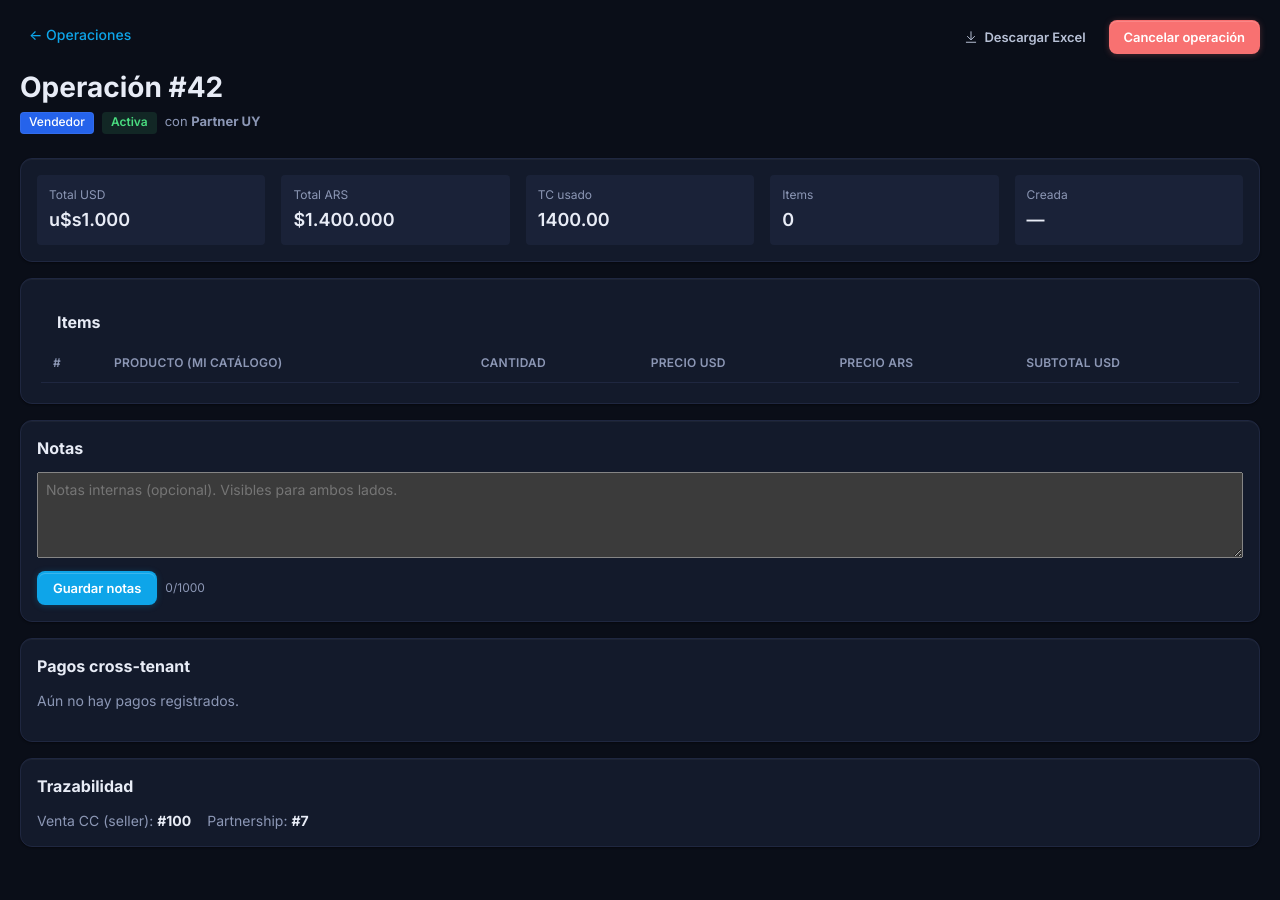
Test: RedB2BOperacionDetalle — smoke tests › U0-2: click en "Cancelar operación" abre modal, NO dispara window.prompt
Check: the text "Partner UY" is shown, box 191,112 -> 260,128
Click the button "Cancelar operación" at (1184, 37), box 1108,20 -> 1260,54
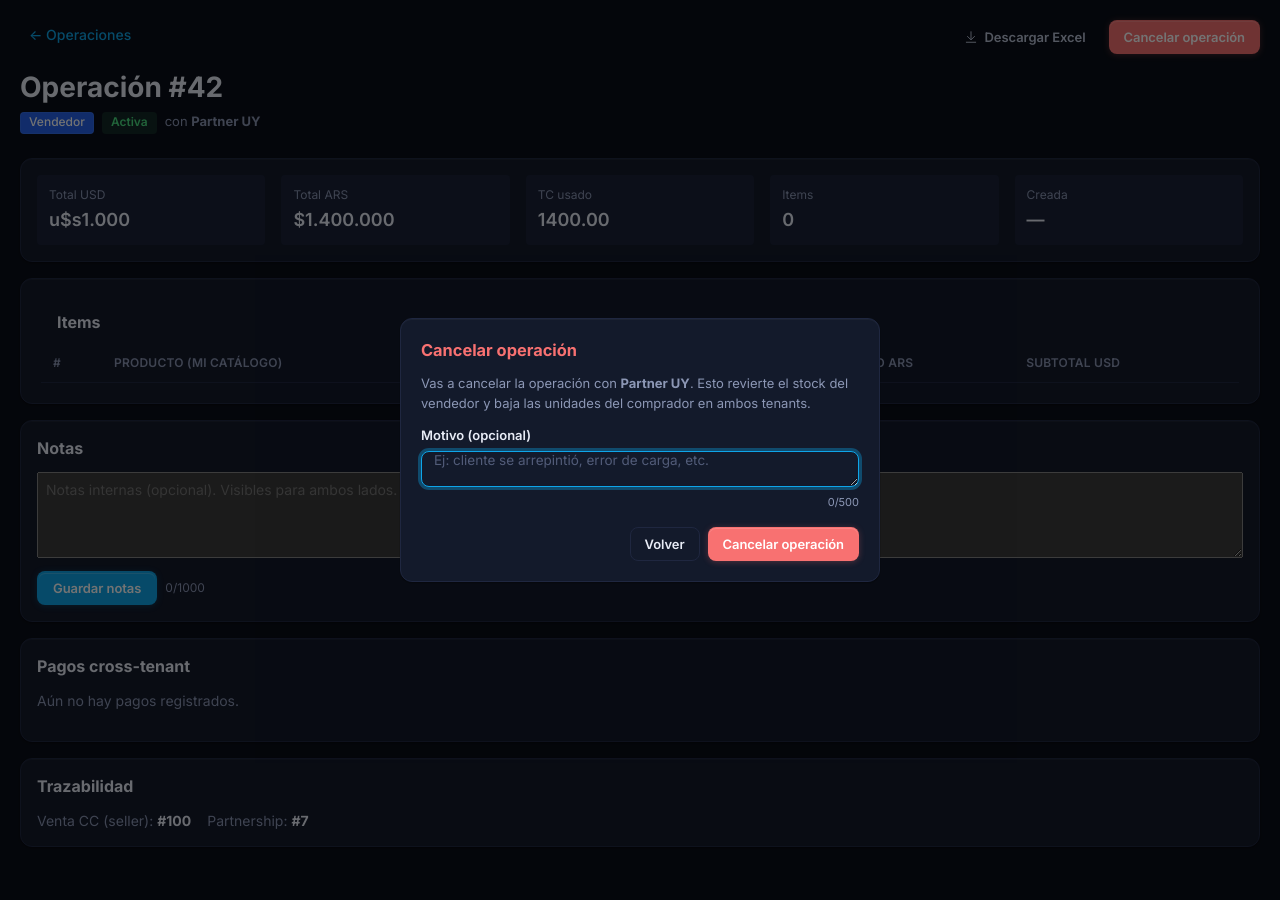
Check: the dialog is shown
Check: the text box labelled "Motivo (opcional)" is shown, box 421,451 -> 859,487
